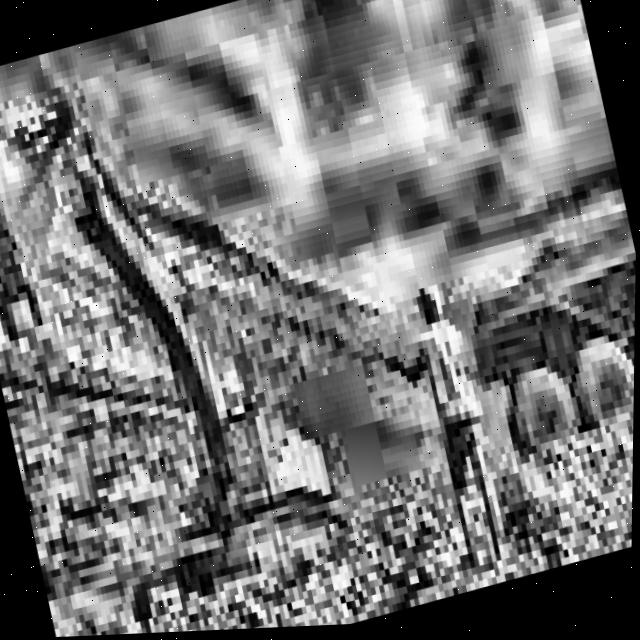dump_truck: (433, 136, 638, 513)
excavator: (0, 0, 403, 640)
